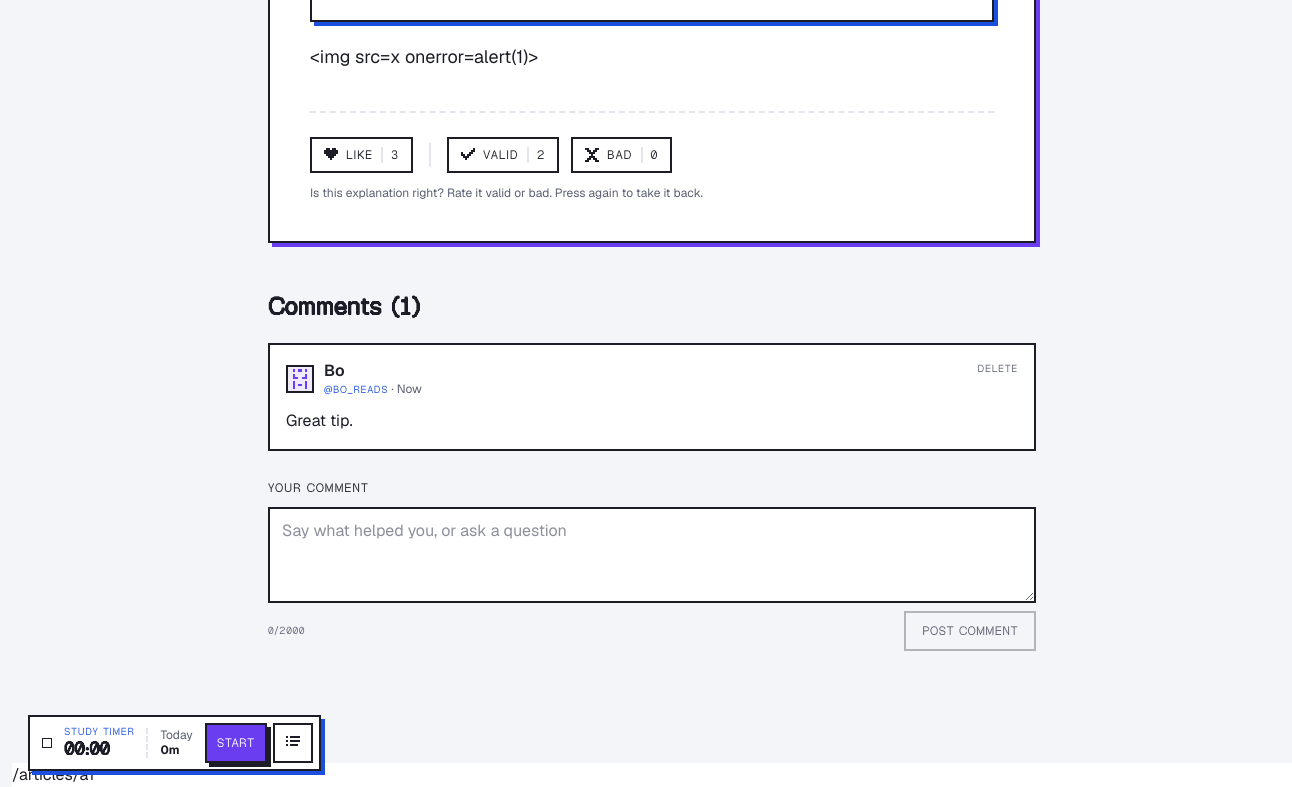
Scenario: posts a comment and deletes one the reader may delete
(page scrolled)
Type "Thanks, this helped." into the text box labelled "Your comment" at (652, 555), box [268, 507, 1036, 603]
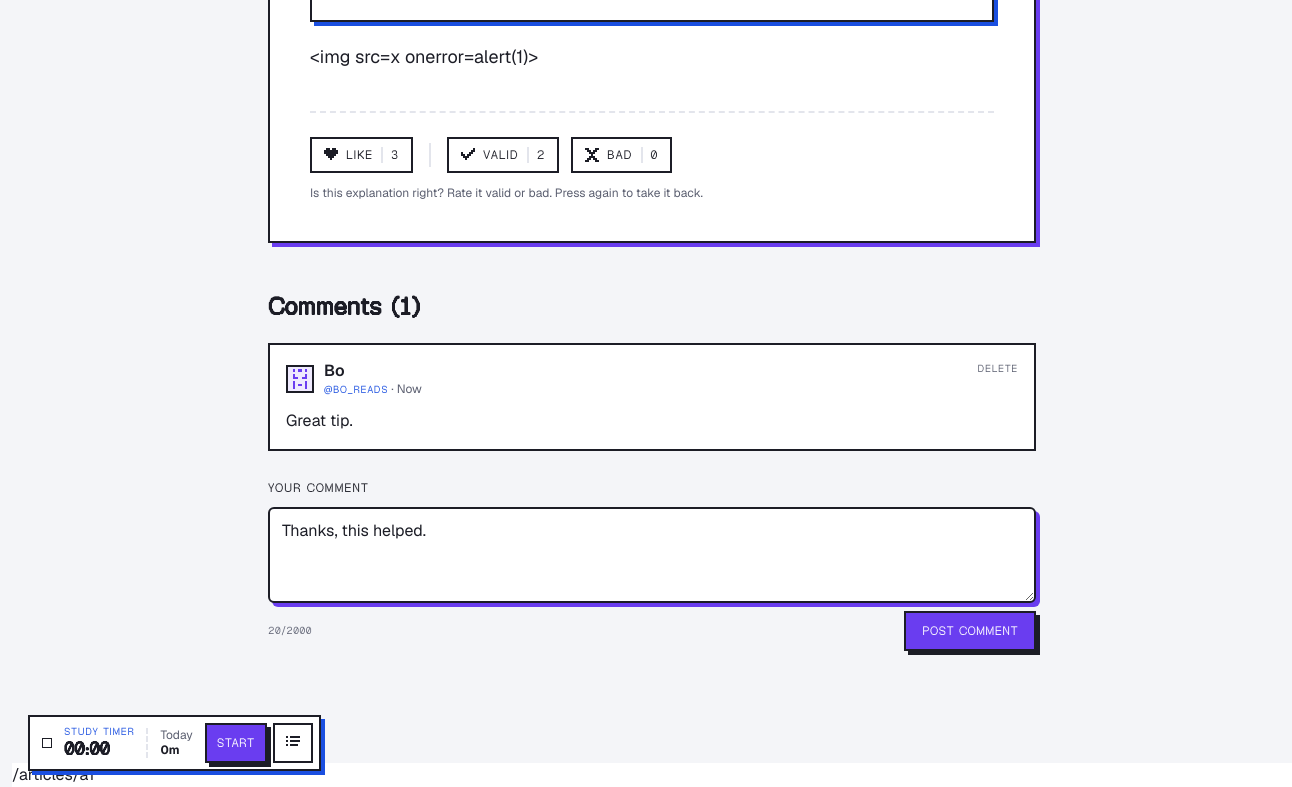
Click the button "Post comment" at (970, 631), box [904, 611, 1036, 651]
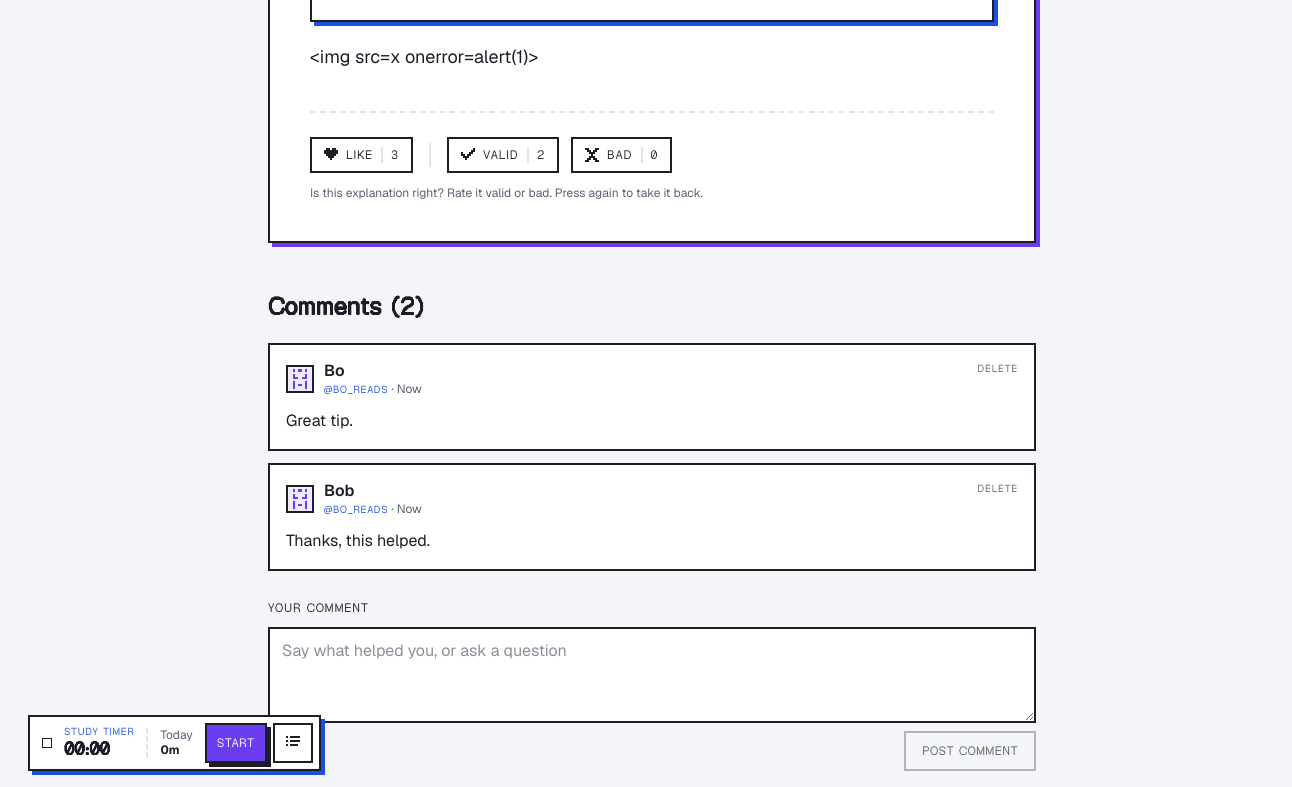
Now the text "Thanks, this helped." is shown, box [286, 530, 430, 551]
Now the text box labelled "Your comment" is empty, box [268, 627, 1036, 723]
Now the heading "Comments (2)" is shown, box [268, 291, 424, 322]
Click the button with aria-label "Delete comment" at (998, 368), box [978, 361, 1018, 376]
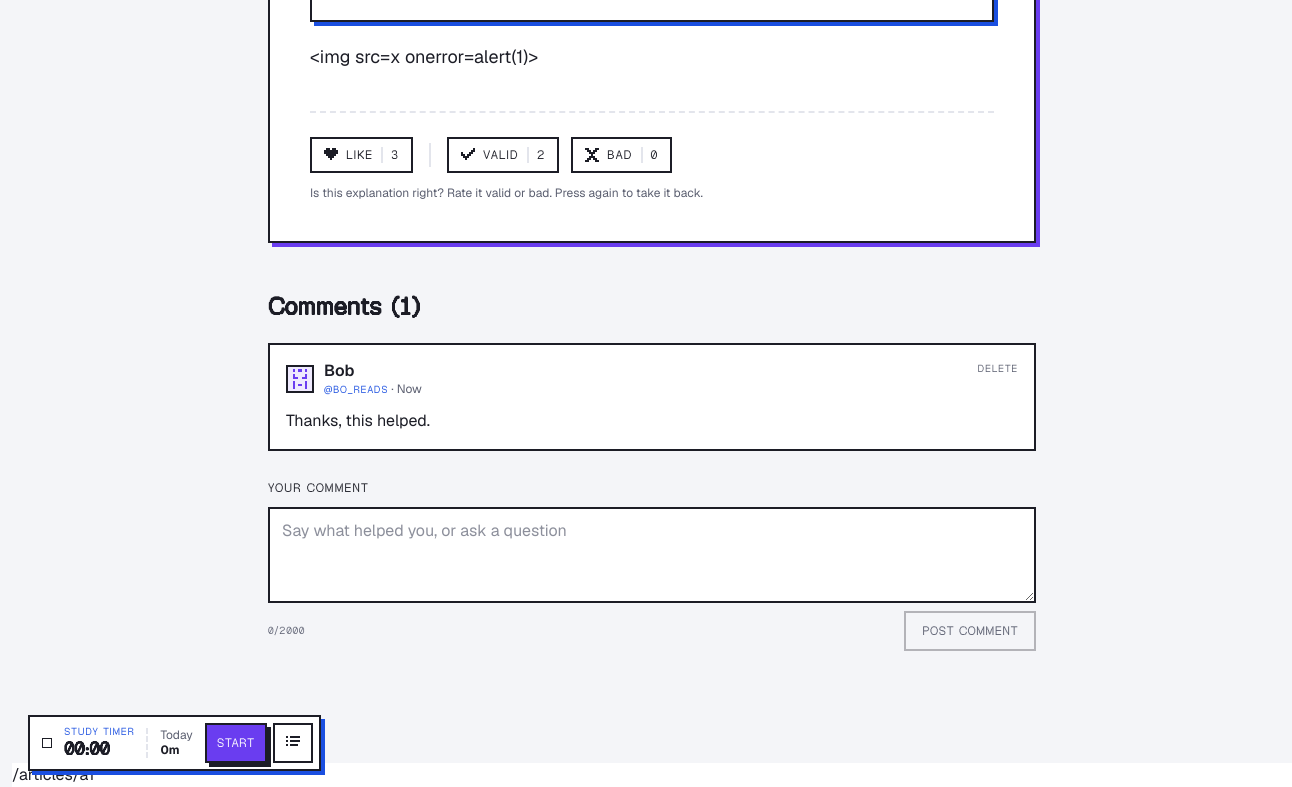
Now the text "Great tip." is gone
